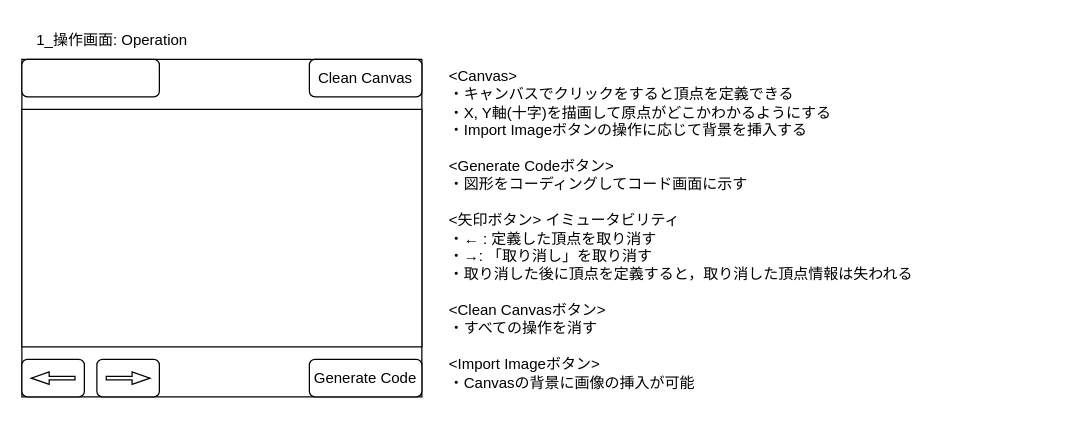
Some shapes in this 1069 by 430 pixel diagram are drawn without their labels. Each missing label, with the centre of its shape:
"Canvas" belongs at [221,227].
"Import Image" belongs at [90,77].
